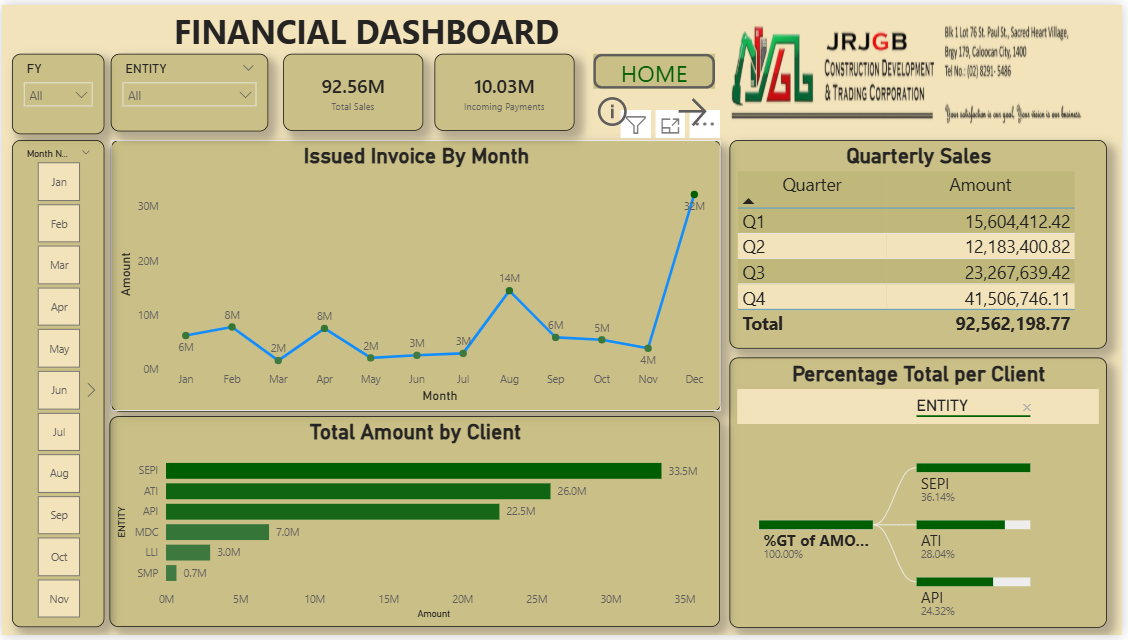

The dashboard page shown, as its layout file describes it:
{"tool":"powerbi","page":{"name":"Financial Dashboard","canvas":[1280,720],"ordinal":0},"visuals":[{"type":"tableEx","title":"Quarterly Sales","fields":{"Values":["ISSUE INVOICES.Quarter","Sum(ISSUE INVOICES.AMOUNT)"]},"box":[831.2,153.8,431.2,238.8],"z":0},{"type":"decompositionTreeVisual","title":"Percentage Total per Client","fields":{"ExplainBy":["ISSUE INVOICES.ENTITY"],"Analyze":["Sum(ISSUE INVOICES.AMOUNT)"]},"box":[831.2,402.5,431.2,308.8],"z":1000},{"type":"slicer","fields":{"Values":["ISSUE INVOICES.FY"]},"box":[10.9,55.5,105.5,91.8],"z":2000},{"type":"lineChart","title":"Issued Invoice By Month","fields":{"Y":["Sum(ISSUE INVOICES.AMOUNT)"],"Category":["Calendar.Month Name"]},"box":[123.6,153.6,697.3,310],"z":3000},{"type":"barChart","title":"Total Amount by Client","fields":{"Category":["ISSUE INVOICES.ENTITY"],"Y":["Sum(ISSUE INVOICES.AMOUNT)"]},"box":[123.3,470,697.8,241.1],"z":4000},{"type":"slicer","fields":{"Values":["ISSUE INVOICES.ENTITY"]},"box":[123.6,55.5,180,89.1],"z":5000},{"type":"slicer","fields":{"Values":["Calendar.Month Name"]},"box":[10.7,153.6,105.7,557.1],"z":6000},{"type":"cardVisual","fields":{"Data":["_Measure.Total Sales"]},"box":[320.9,55.5,160,88.2],"z":7000},{"type":"cardVisual","fields":{"Data":["_Measure.Incoming Payments"]},"box":[493.8,55.6,160,88.1],"z":8000},{"type":"textbox","box":[11.2,0,810,63.8],"z":9000},{"type":"image","box":[831.2,12.5,431.2,131.2],"z":10000},{"type":"actionButton","title":"HOME","box":[675.5,55.5,139.1,40],"z":11000},{"type":"actionButton","box":[766.9,101.5,47.7,42.3],"z":12000},{"type":"actionButton","box":[675.7,99.3,55,43.6],"z":13000}]}

Visuals, with their boxes in screenshot pixels (x1, y1, x2, y2), scaled from the page's 1280x720 canvas onto the 1128x640 screenshot:
"Quarterly Sales" tableEx: crop(732, 137, 1112, 349)
"Percentage Total per Client" decompositionTreeVisual: crop(732, 358, 1112, 632)
slicer - ISSUE INVOICES.FY: crop(10, 49, 103, 131)
"Issued Invoice By Month" lineChart: crop(109, 137, 723, 412)
"Total Amount by Client" barChart: crop(109, 418, 724, 632)
slicer - ISSUE INVOICES.ENTITY: crop(109, 49, 268, 129)
slicer - Calendar.Month Name: crop(9, 137, 103, 632)
cardVisual - _Measure.Total Sales: crop(283, 49, 424, 128)
cardVisual - _Measure.Incoming Payments: crop(435, 49, 576, 128)
textbox: crop(10, 0, 724, 57)
image: crop(732, 11, 1112, 128)
"HOME" actionButton: crop(595, 49, 718, 85)
actionButton: crop(676, 90, 718, 128)
actionButton: crop(595, 88, 644, 127)
